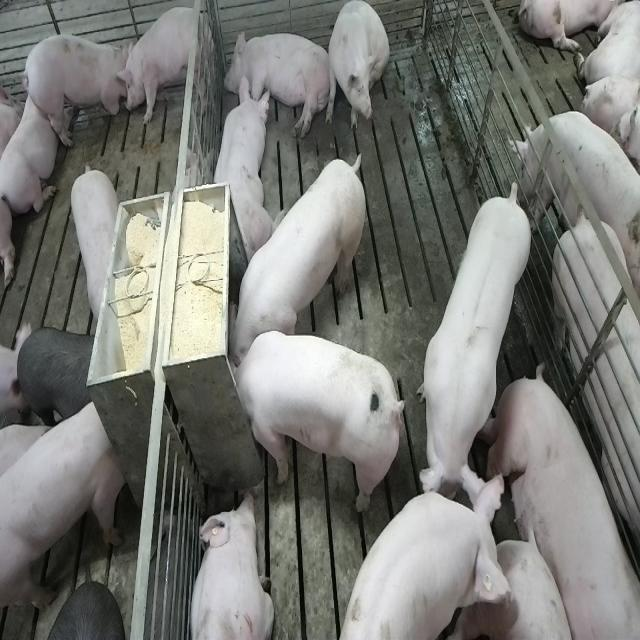Feeding: (222, 329, 396, 517), (230, 145, 370, 364)
Lateral_lying: (485, 365, 637, 640), (224, 27, 334, 138)
Sitting: (325, 3, 389, 139)
Standing: (418, 180, 537, 516), (551, 210, 640, 630), (342, 472, 517, 640), (1, 396, 126, 614), (514, 106, 640, 282), (24, 30, 128, 148), (118, 5, 210, 130), (66, 160, 118, 324), (15, 320, 95, 425)
Sternal_lying: (187, 489, 275, 640), (208, 76, 276, 262), (1, 79, 61, 213)
